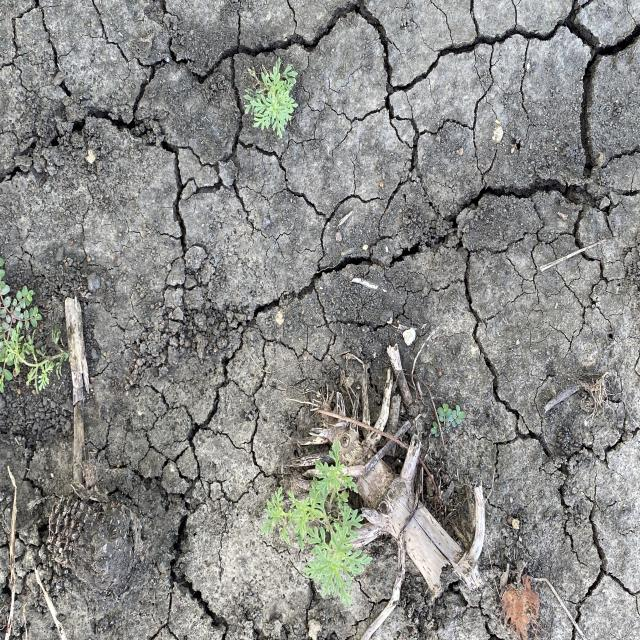Ragweed: (257, 436, 375, 612), (241, 52, 301, 143)
SpottedSpurge: (0, 254, 42, 396), (428, 400, 468, 442)
